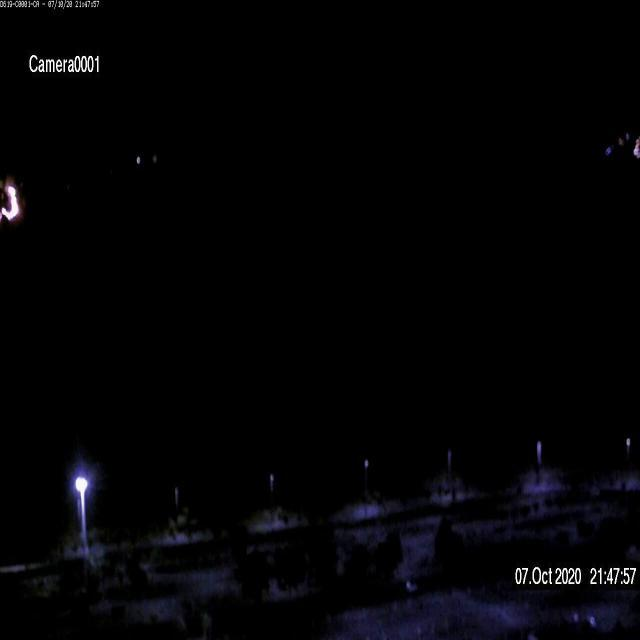Fire: (0, 178, 20, 224)
